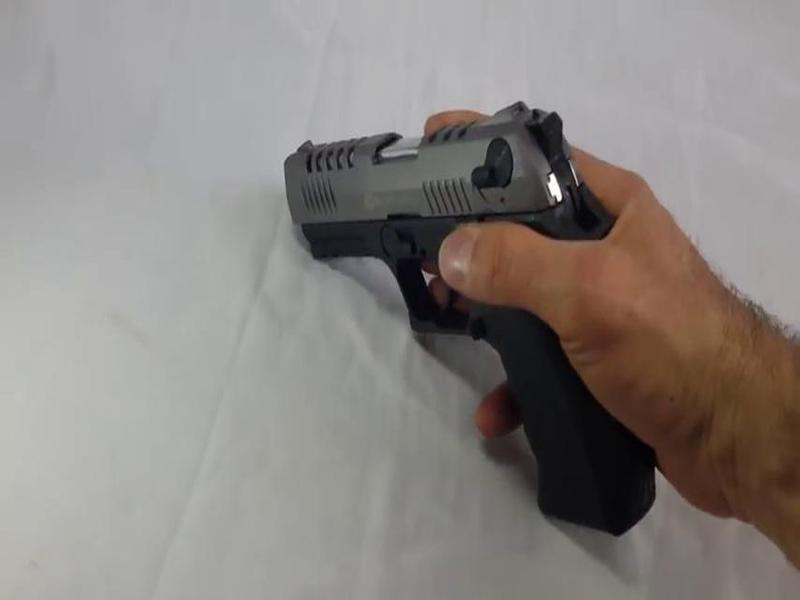Pistola: (268, 77, 679, 567)
